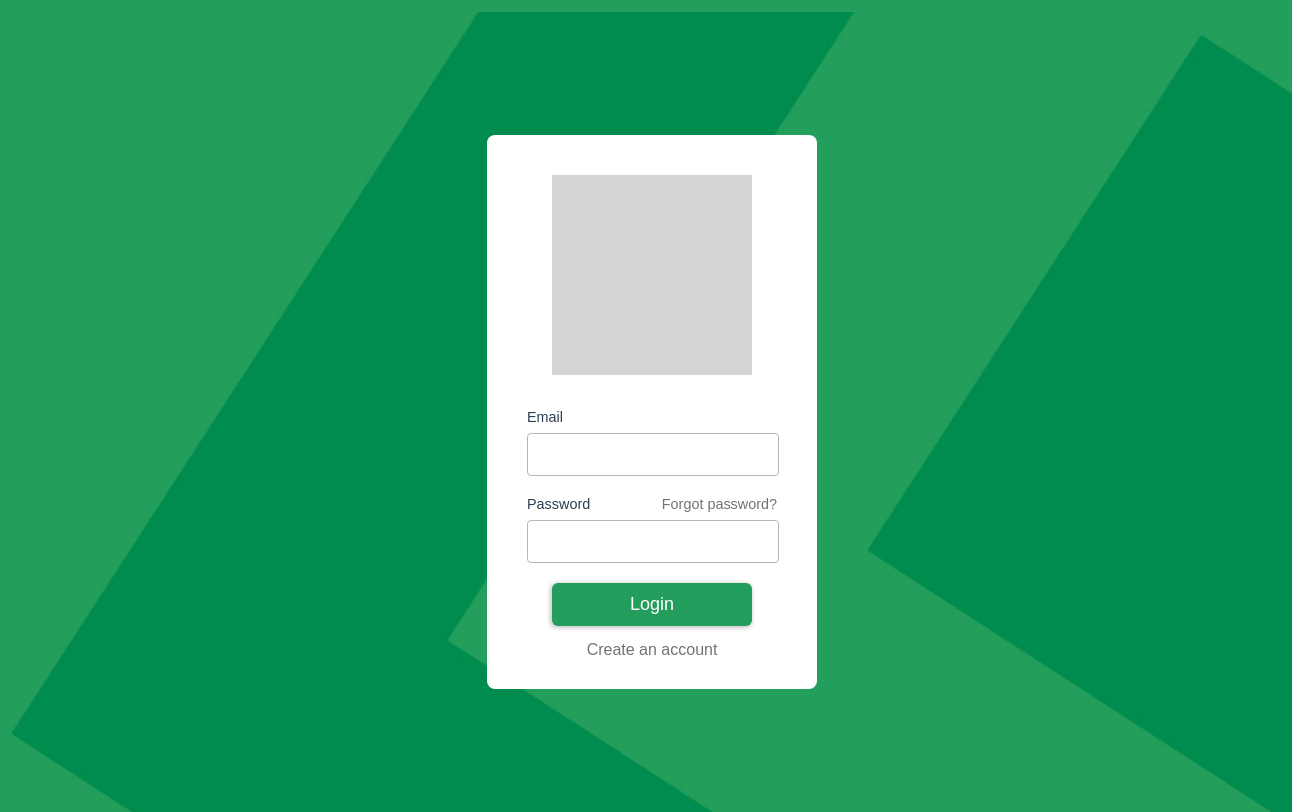
it: Login › should alert on toast if no user found
This screenshot has width=1292, height=812.
Type "fake@email.com" into the field named "username".
click(653, 455); type("fake@email.com")  # box x1=527 y1=433 x2=779 y2=476
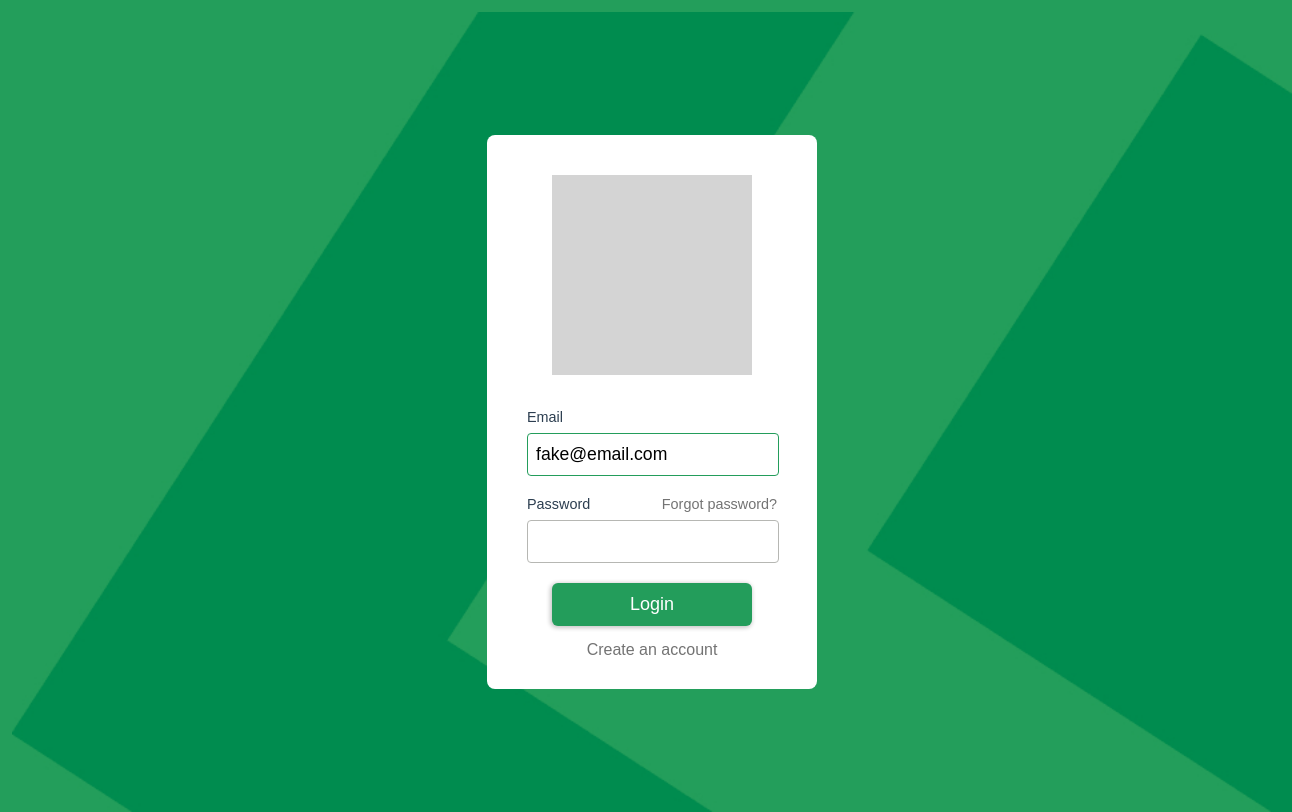
Type "FakeP4assword" into the password field named "password".
click(653, 542); type("FakeP4assword")  # box x1=527 y1=520 x2=779 y2=563
Then press Enter
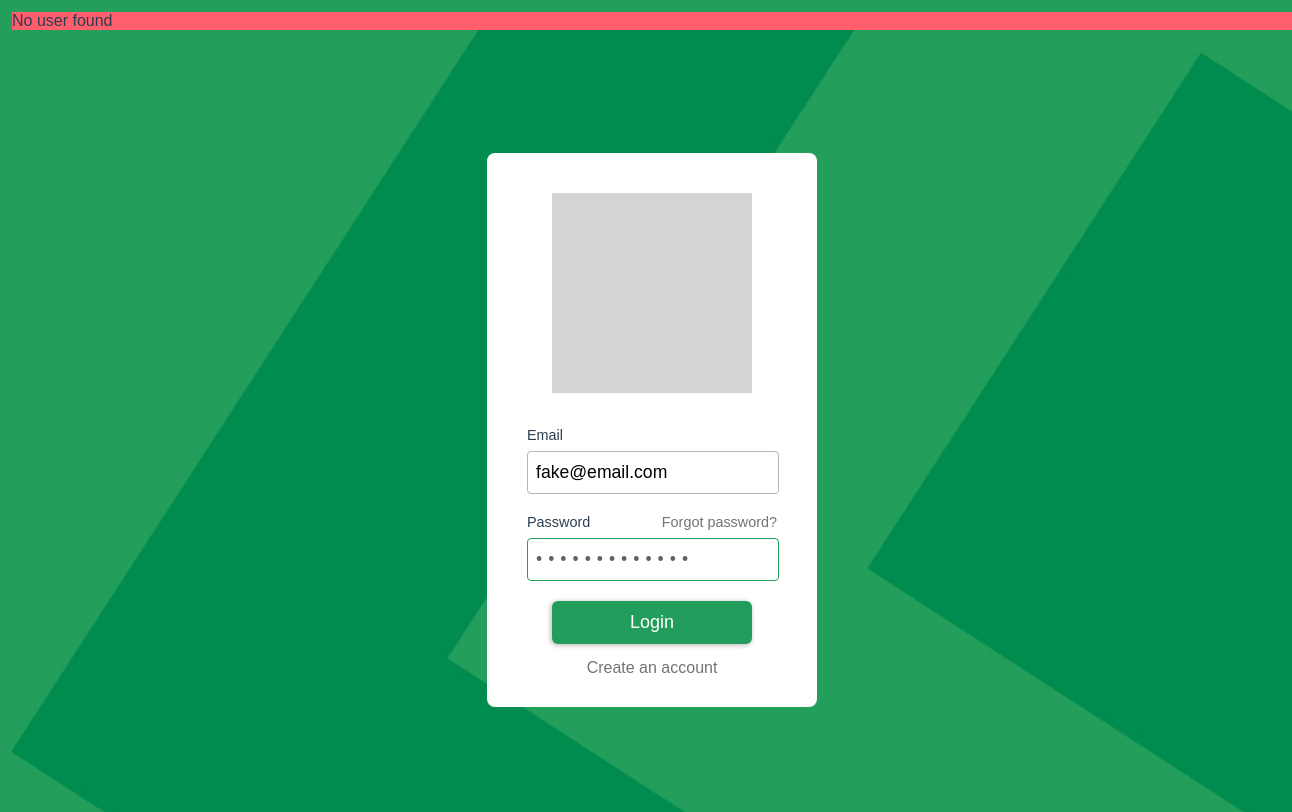
Now the text "No user found" is shown, box x1=12 y1=12 x2=1291 y2=30
